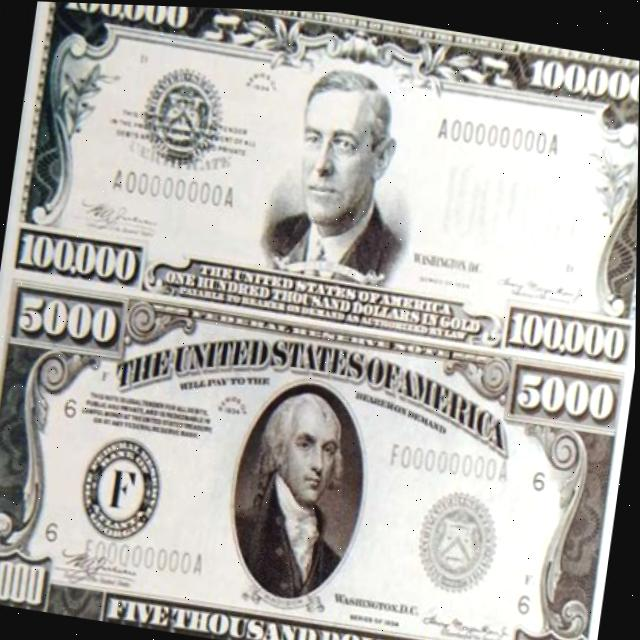banknote: (0, 0, 640, 369), (0, 273, 635, 640), (430, 156, 592, 263), (159, 264, 425, 323), (105, 588, 320, 640), (13, 287, 129, 353), (17, 228, 137, 286), (507, 305, 633, 358), (513, 362, 622, 423), (524, 48, 640, 103), (60, 2, 193, 31), (0, 552, 52, 606), (516, 632, 585, 640)
